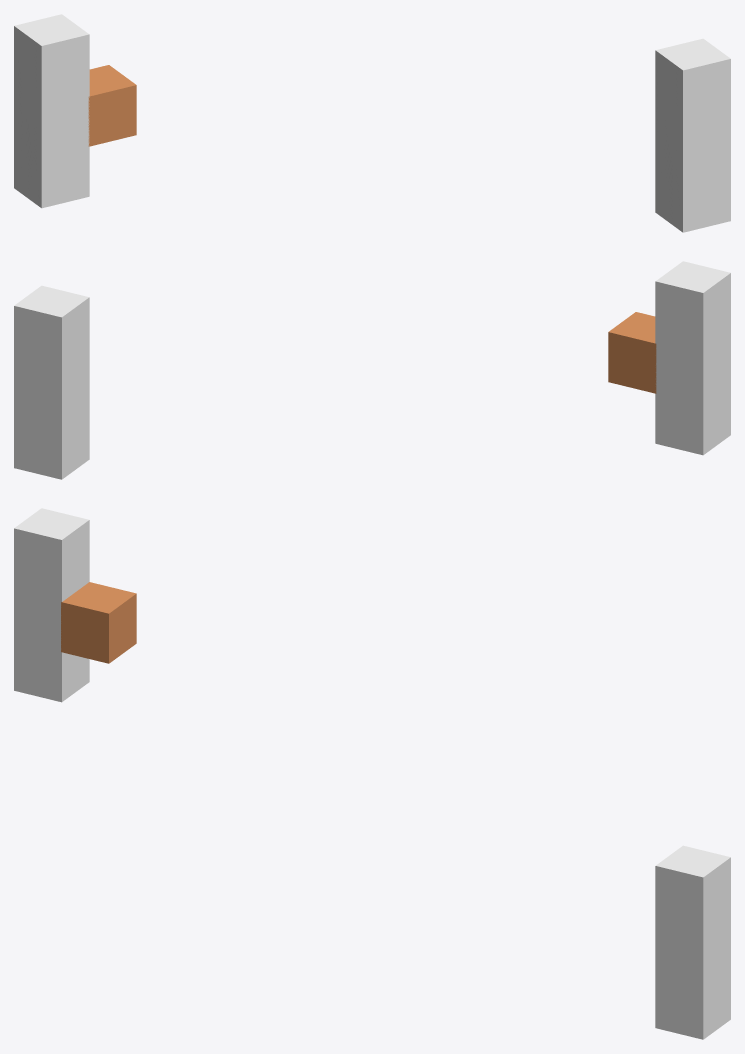
Rendered from banner.glb.
3 views of the same model, one above another, from view 1: azimuth 30°, elevation 25°; view 2: azimuth 150°, elevation 25°; view 3: azimuth 330°, elevation 25° (orthographic).
Parts seen in each view (by area): view 1: Cube.002, Cube.001, Cube; view 2: Cube.002, Cube.001, Cube; view 3: Cube.002, Cube.001, Cube.
Part boxes in pixels (bbox=[...]): Cube.002: bbox=[655, 38, 730, 232]; Cube.001: bbox=[14, 14, 89, 208]; Cube: bbox=[88, 65, 136, 146]; Cube.002: bbox=[14, 285, 89, 479]; Cube.001: bbox=[655, 261, 730, 455]; Cube: bbox=[608, 312, 656, 393]; Cube.002: bbox=[655, 845, 730, 1039]; Cube.001: bbox=[14, 508, 89, 702]; Cube: bbox=[61, 582, 136, 663].
Bounding box in the file's own units: 19.07 × 9.07 × 1.32.
